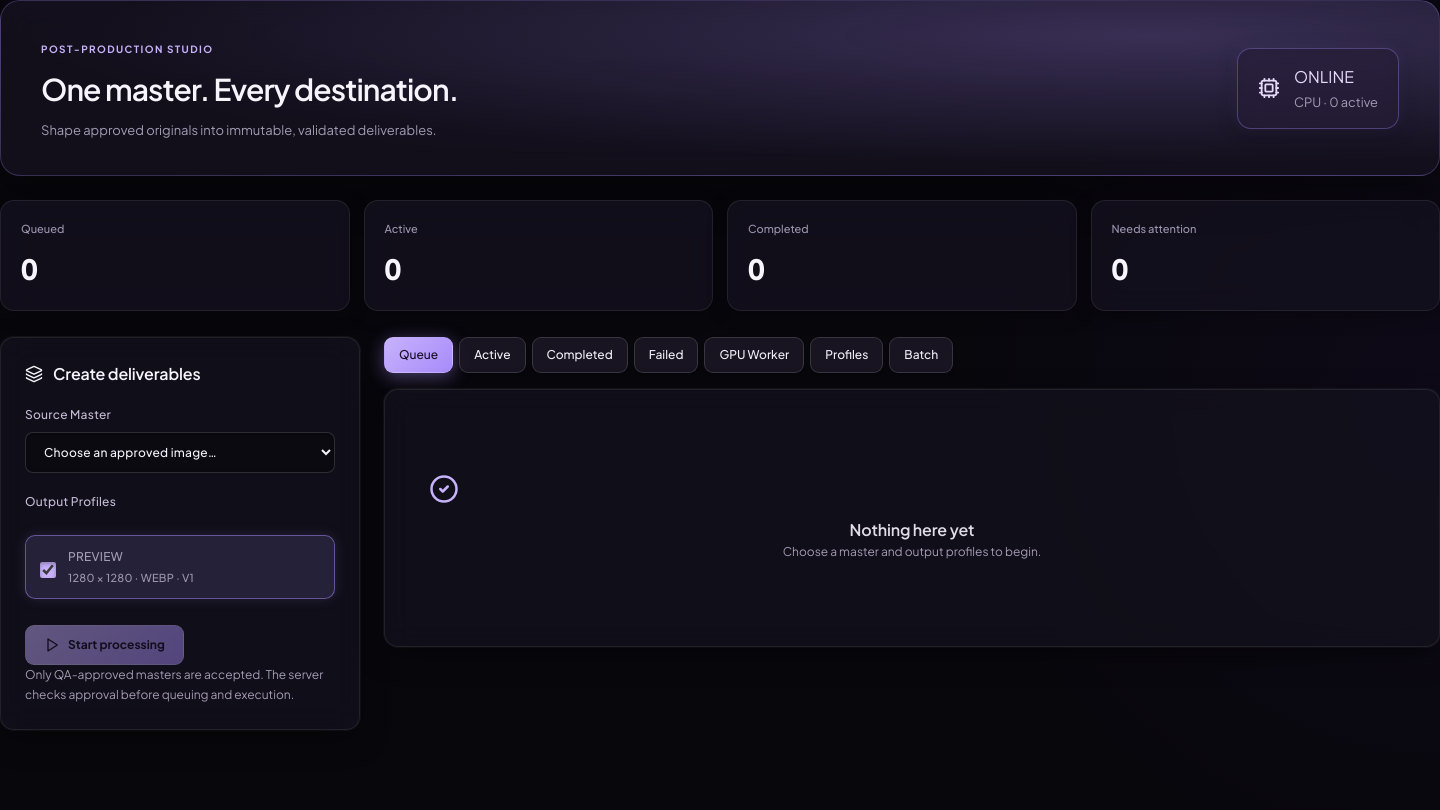
Test: shows local worker capability without claiming a GPU
The width and height of the screenshot is (1440, 810).
Click the button "GPU Worker": point(754, 355) [704,337,804,373]
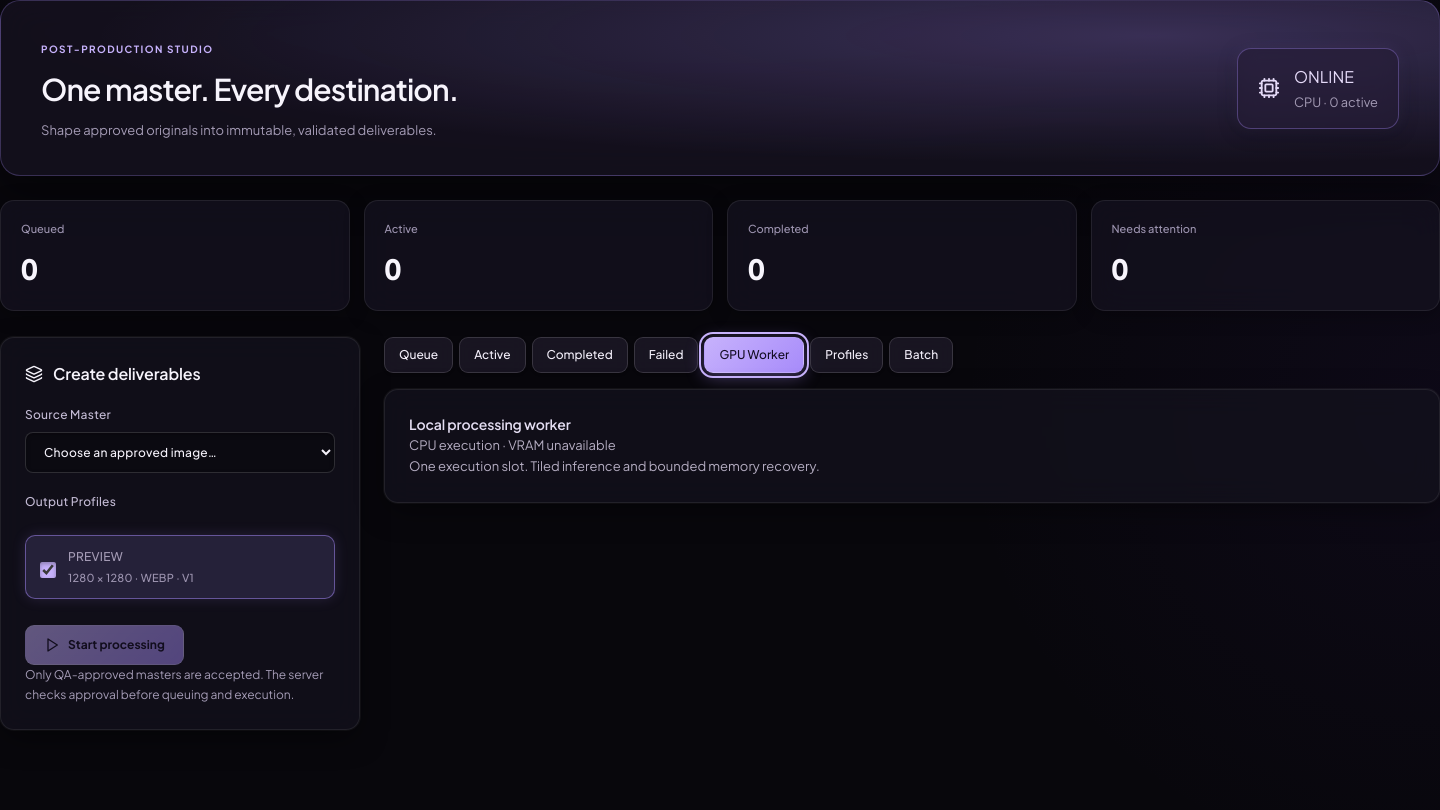
Expected: the text "CPU execution · VRAM unavailable" is shown, [409,437,616,453]
